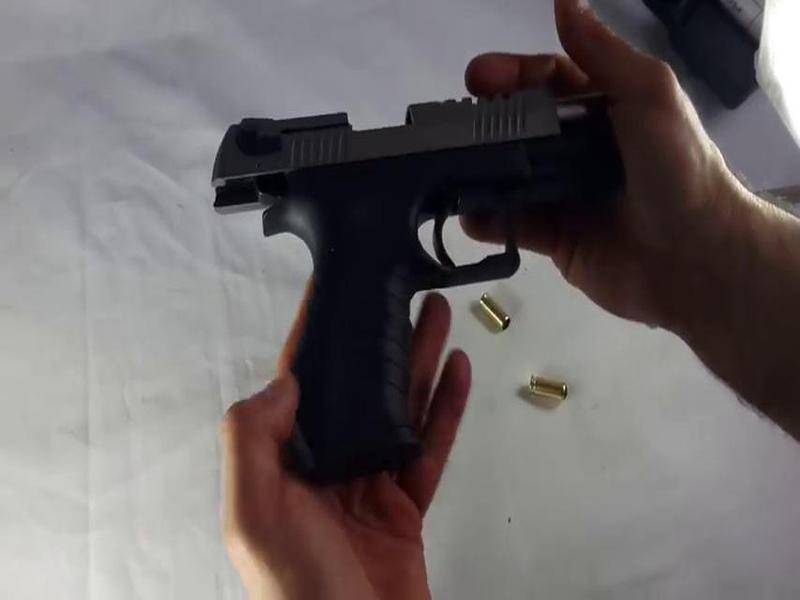Pistola: (174, 82, 676, 478)
